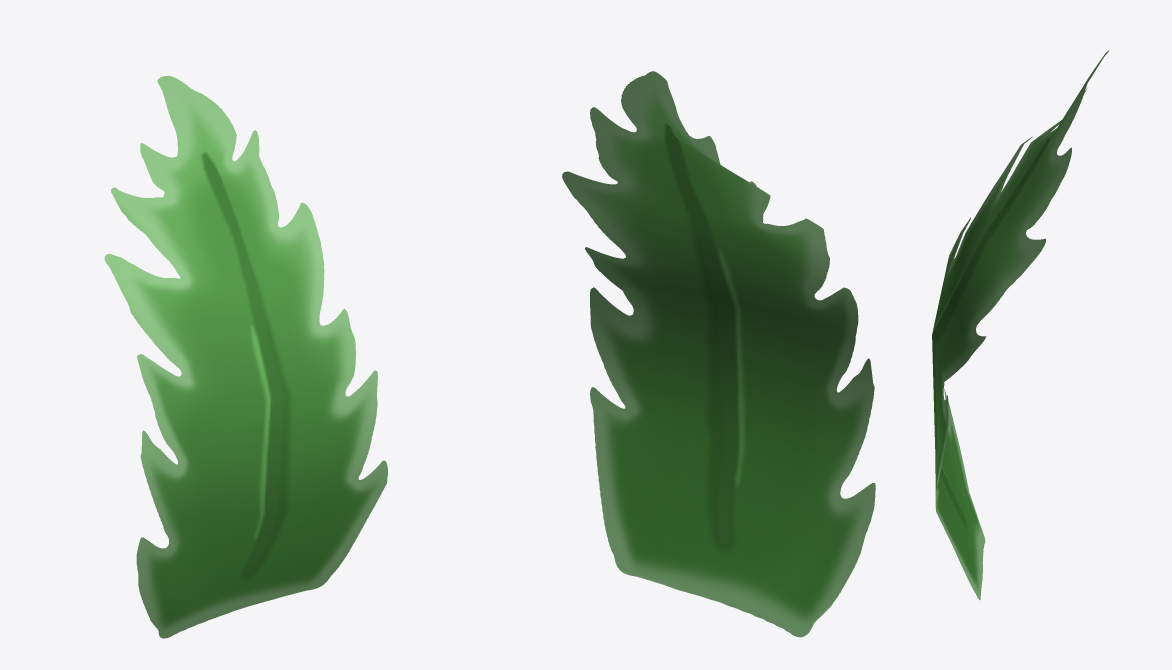
The model's file is HojaG_1.fbx.
3 renders of one model, left to right at view 1: azimuth 30°, elevation 25°; view 2: azimuth 150°, elevation 25°; view 3: azimuth 270°, elevation 25°, orthographic. The views are drawn at different scales.
Visible parts, largest first — view 1: HojaG_1; view 2: HojaG_1; view 3: HojaG_1.
Boxes of the visible parts, x1,y1,x2,y2 form: HojaG_1: (104, 75, 387, 638); HojaG_1: (562, 71, 875, 637); HojaG_1: (932, 50, 1109, 599).
Bounding box in the file's own units: 117 × 199 × 75.38.
1 material, 1 textured.
